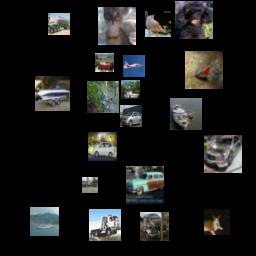airplane: (123, 55, 145, 77)
automobile: (204, 135, 242, 173), (126, 166, 164, 204), (140, 212, 169, 241), (88, 132, 117, 161), (120, 105, 142, 127)
bird: (185, 51, 223, 89), (145, 11, 171, 37)
cat: (98, 7, 136, 45), (204, 209, 230, 235)
deer: (87, 81, 119, 113)
dog: (175, 1, 213, 39)
ship: (35, 76, 70, 111), (170, 98, 202, 130), (30, 207, 59, 236), (121, 80, 140, 99), (95, 53, 114, 72)
truck: (89, 209, 121, 241), (48, 13, 70, 35), (82, 177, 98, 193)
